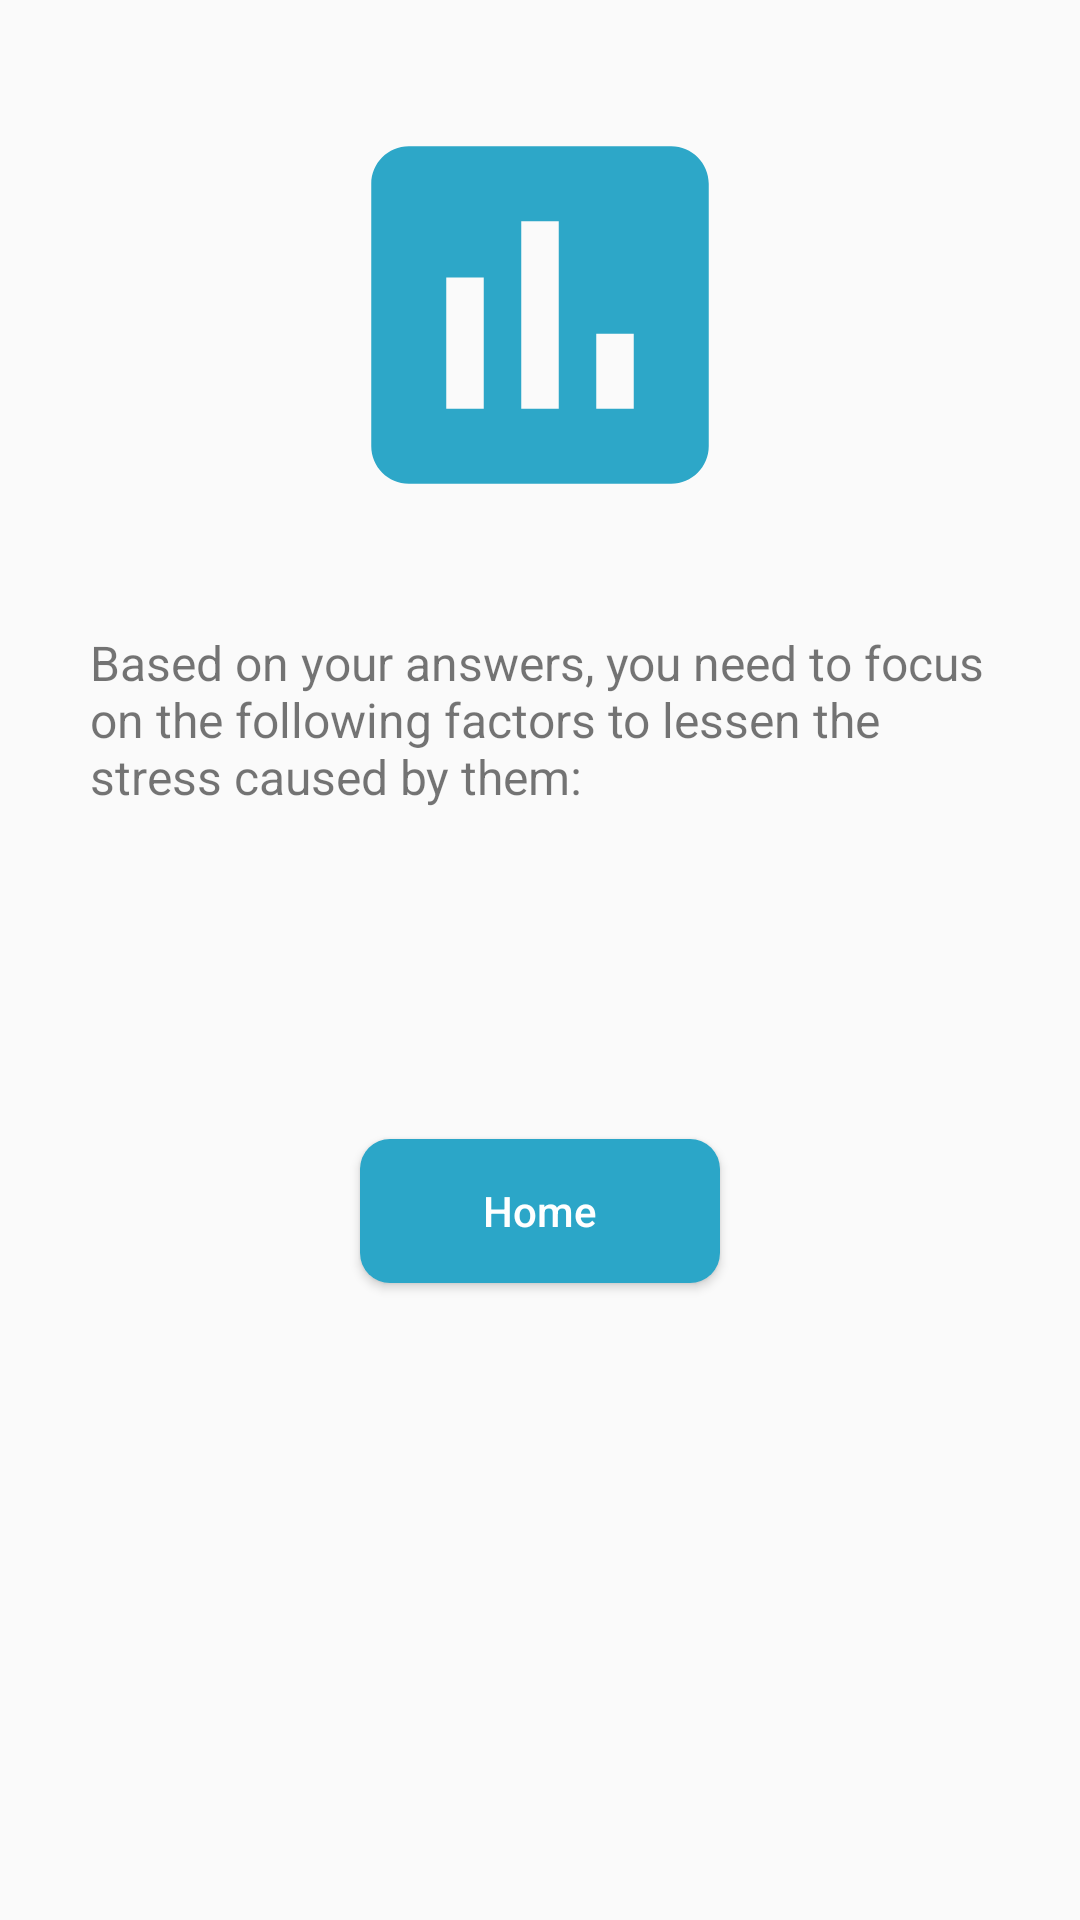

Icons on this 1080×1920 Android screen, each with its box as box=[x1, y1, x2, y2]:
assessment: box=[371, 146, 709, 484]
